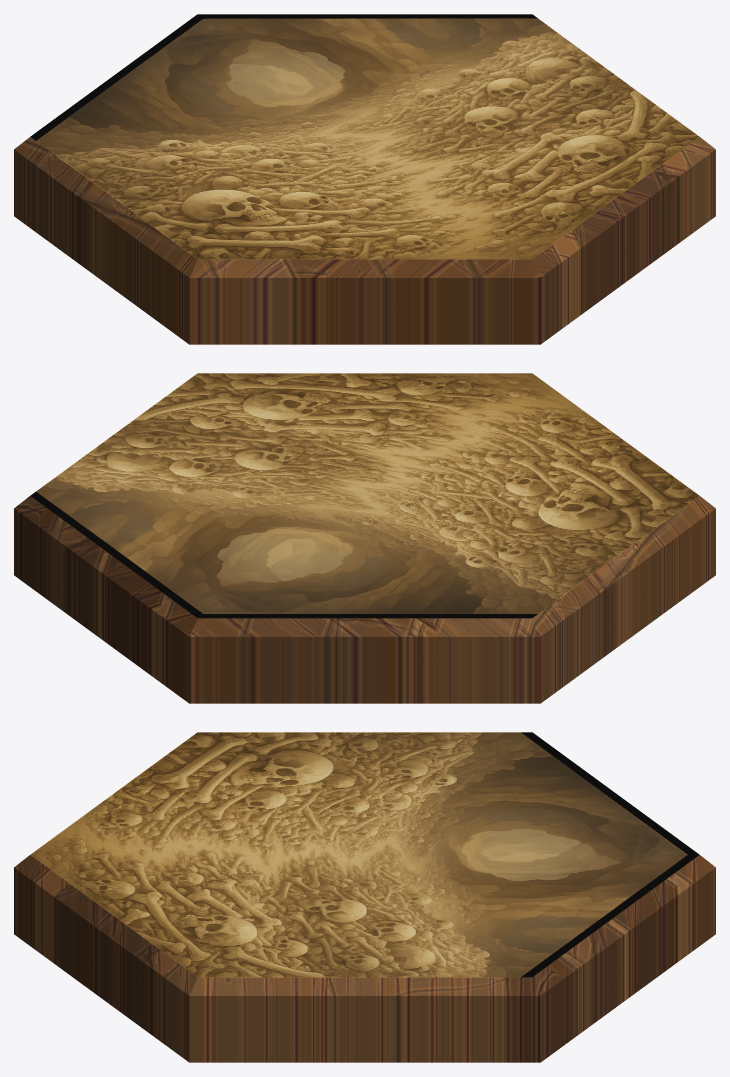
The model's file is bone-hoards.glb.
The picture shows the model from 3 angles, top to bottom: view 1: azimuth 30°, elevation 25°; view 2: azimuth 150°, elevation 25°; view 3: azimuth 270°, elevation 25°; orthographic projection.
Parts seen in each view (by area): view 1: Circle; view 2: Circle; view 3: Circle.
Part boxes in pixels (x1,y1,x2,y2): Circle: (14,14,715,344); Circle: (14,373,715,703); Circle: (14,732,715,1062).
Size of the model in its own units: 1.73 by 0.25 by 2.
2 materials, 2 textured.
